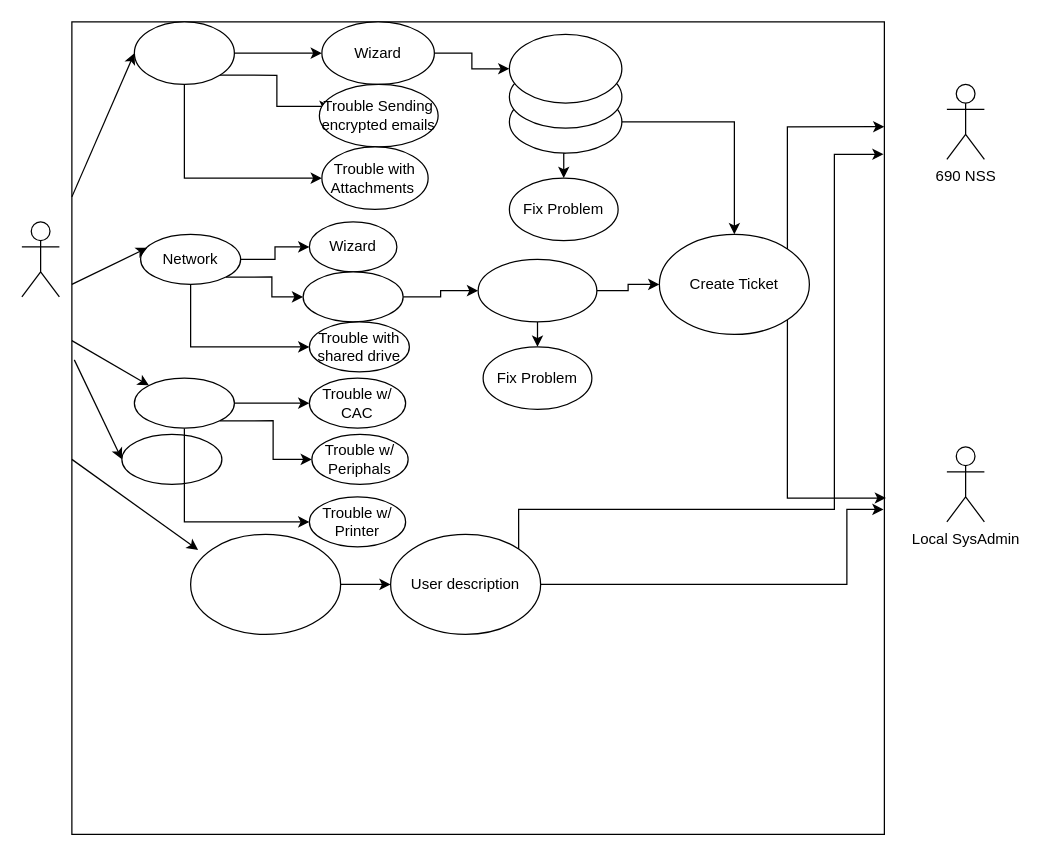
This 1041x856 diagram has some shape labels left out. The shapes that lost their labels are listed below. From the top down, each one's centre as x and y in pixels, then its label:
the point at 183,52: Email
the point at 565,68: Step through diagnostics
the point at 40,259: User
the point at 352,296: Trouble with Internet
the point at 537,290: Test connection
the point at 183,402: H/W
the point at 171,458: S/W
the point at 265,583: Report potential cyber threat
